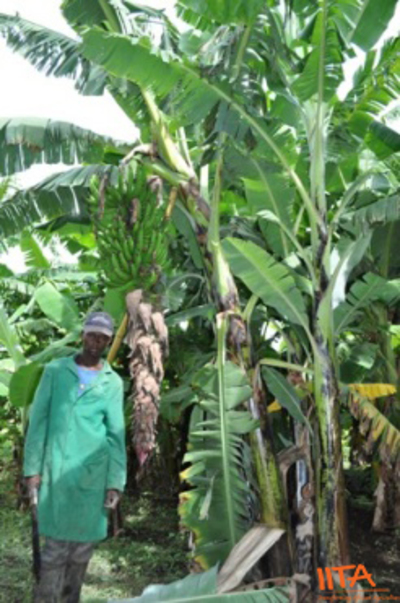bananaHand: (88, 157, 174, 293)
